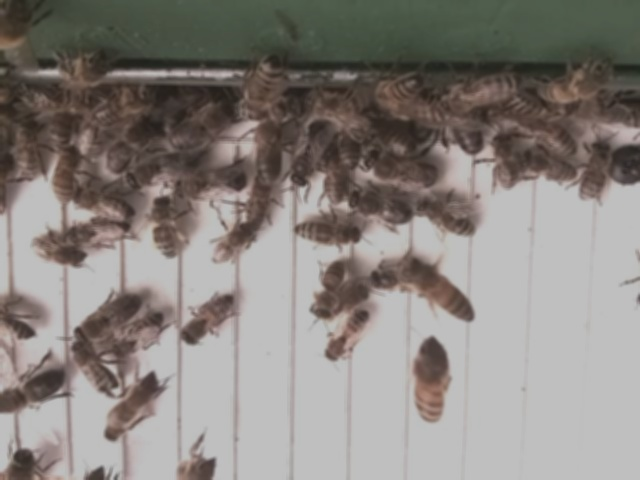Drone: (72, 291, 144, 348), (167, 97, 237, 155), (0, 365, 68, 418), (285, 117, 331, 192), (362, 149, 440, 192), (125, 148, 198, 193), (174, 161, 247, 203), (346, 188, 414, 229)
Worker: (402, 260, 474, 324), (411, 337, 449, 425), (178, 293, 237, 349), (321, 310, 371, 365), (413, 197, 476, 240), (68, 346, 122, 394), (575, 140, 612, 204), (310, 259, 346, 324), (291, 217, 362, 248), (72, 188, 138, 220), (150, 197, 182, 262), (519, 152, 581, 185), (243, 173, 274, 238), (26, 234, 83, 269), (210, 224, 253, 269), (14, 116, 41, 184), (62, 221, 132, 247), (494, 133, 521, 195), (50, 151, 78, 206)
